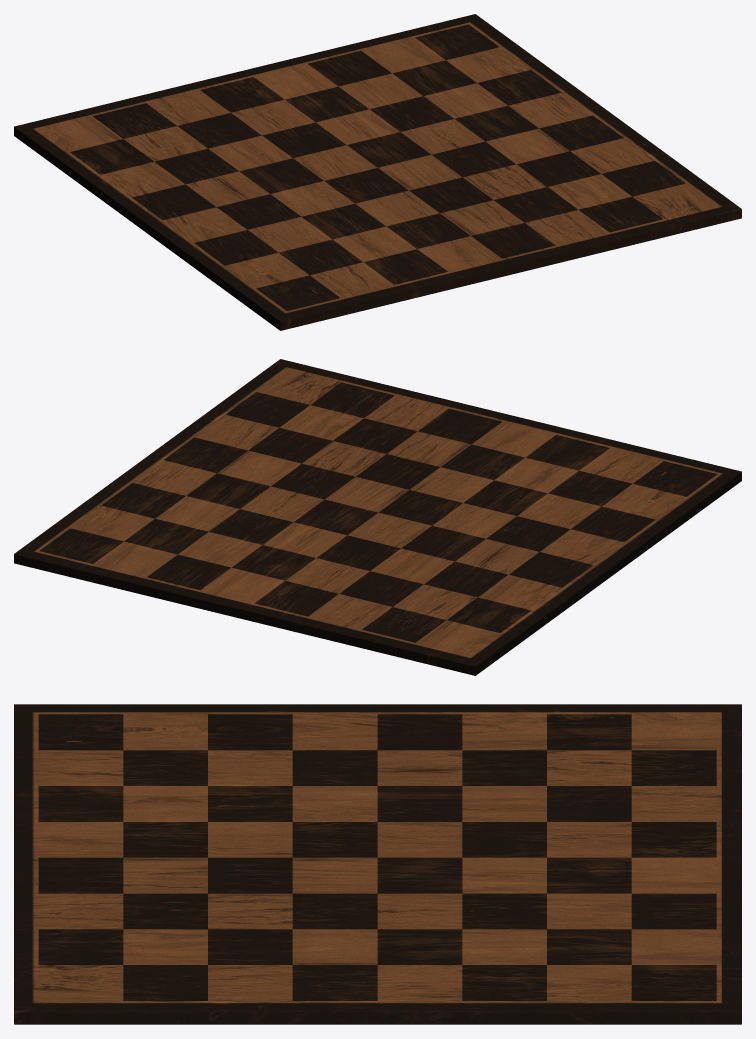
The model's file is chess-0x-board.glb.
The picture shows the model from 3 angles, top to bottom: view 1: azimuth 30°, elevation 25°; view 2: azimuth 150°, elevation 25°; view 3: azimuth 270°, elevation 25°; orthographic projection. The views are drawn at different scales.
Parts seen in each view (by area): view 1: chess-board, h4, b2, b5, b6, b7, c1, c2, d8, e3, h7, a6 (+53 smaller); view 2: chess-board, b2, b3, b4, c5, c8, d7, f2, f3, f6, g8, b1 (+53 smaller); view 3: chess-board, a4, a8, e4, e8, a1, a5, e1, e5, f4, f8, f1 (+53 smaller).
Part boxes in pixels (left/top/right/bottom): chess-board: left=14, top=14, right=741, bottom=330; h4: left=539, top=115, right=623, bottom=150; b2: left=279, top=239, right=362, bottom=275; b5: left=186, top=171, right=269, bottom=206; b6: left=155, top=148, right=238, bottom=184; b7: left=124, top=126, right=207, bottom=161; c1: left=363, top=249, right=447, bottom=284; c2: left=333, top=226, right=416, bottom=261; d8: left=200, top=77, right=284, bottom=112; e3: left=409, top=177, right=493, bottom=212; h7: left=446, top=47, right=530, bottom=82; a6: left=101, top=162, right=184, bottom=197; chess-board: left=14, top=359, right=741, bottom=675; b2: left=548, top=470, right=632, bottom=506; b3: left=517, top=493, right=601, bottom=529; b4: left=486, top=516, right=570, bottom=551; c5: left=401, top=525, right=485, bottom=561; c8: left=308, top=594, right=392, bottom=629; d7: left=285, top=558, right=369, bottom=593; f2: left=333, top=418, right=417, bottom=453; f3: left=302, top=441, right=386, bottom=476; f6: left=209, top=509, right=293, bottom=544; g8: left=93, top=541, right=177, bottom=577; b1: left=579, top=448, right=663, bottom=483; chess-board: left=14, top=704, right=741, bottom=1024; a4: left=292, top=714, right=377, bottom=750; a8: left=631, top=714, right=716, bottom=750; e4: left=292, top=857, right=377, bottom=893; e8: left=631, top=857, right=716, bottom=893; a1: left=38, top=714, right=123, bottom=750; a5: left=377, top=714, right=462, bottom=750; e1: left=38, top=857, right=123, bottom=893; e5: left=377, top=857, right=462, bottom=893; f4: left=292, top=893, right=377, bottom=929; f8: left=631, top=893, right=716, bottom=929; f1: left=38, top=893, right=123, bottom=929.
Size of the model in its own units: 0.5 by 0.01 by 0.5.
Materials: 3 (3 with a texture image).
